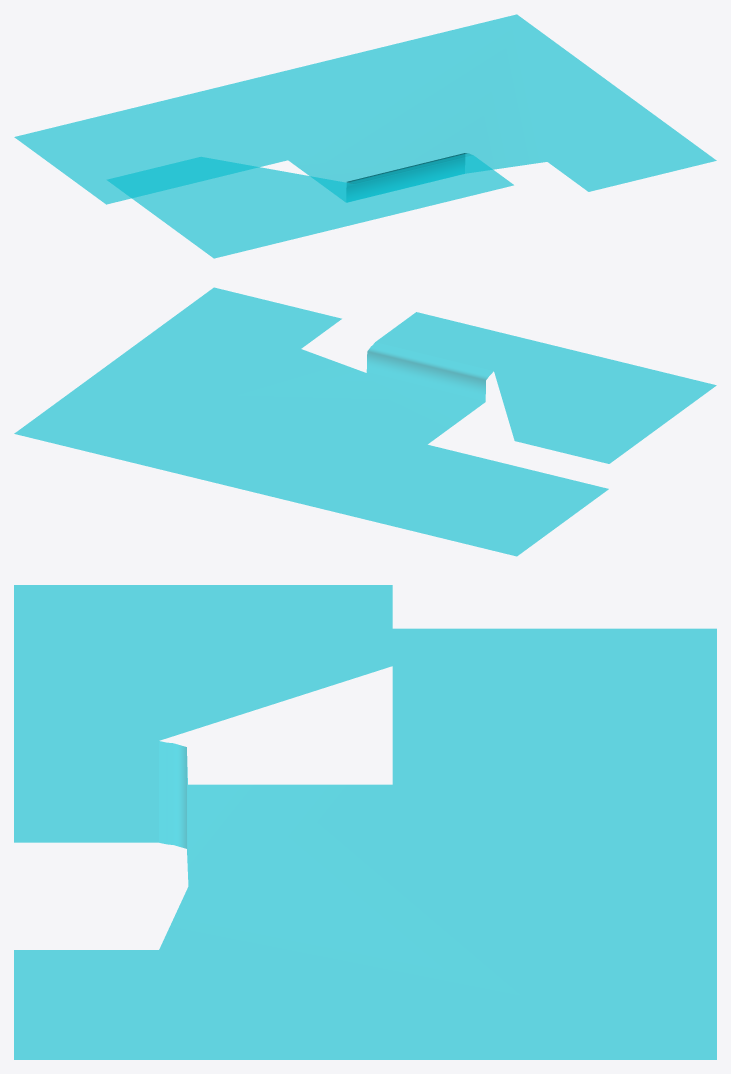
Rendered from THL_shui.fbx.
The picture shows the model from 3 angles, top to bottom: view 1: azimuth 30°, elevation 25°; view 2: azimuth 150°, elevation 25°; view 3: azimuth 270°, elevation 25°; orthographic projection. The views are drawn at different scales.
Visible parts, largest first — view 1: polySurface4; view 2: polySurface4; view 3: polySurface4.
Part boxes in pixels (left/top/right/bottom): polySurface4: left=14, top=14, right=716, bottom=258; polySurface4: left=14, top=287, right=716, bottom=556; polySurface4: left=14, top=585, right=716, bottom=1059.
Bounding box in the file's own units: 239 × 11.25 × 164.
